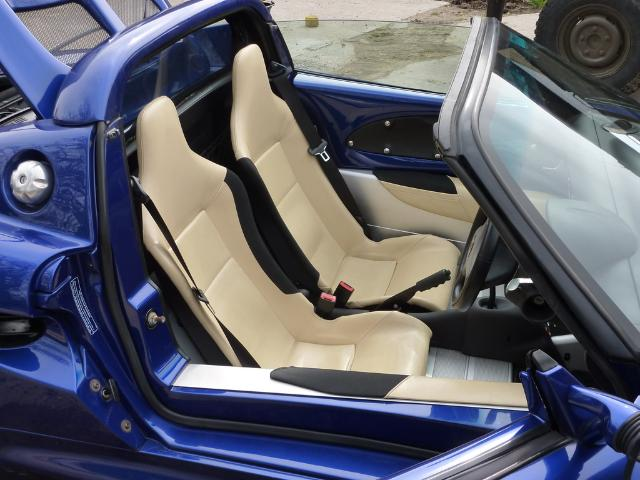Seatbelt: (130, 172, 262, 368), (265, 68, 373, 240)
